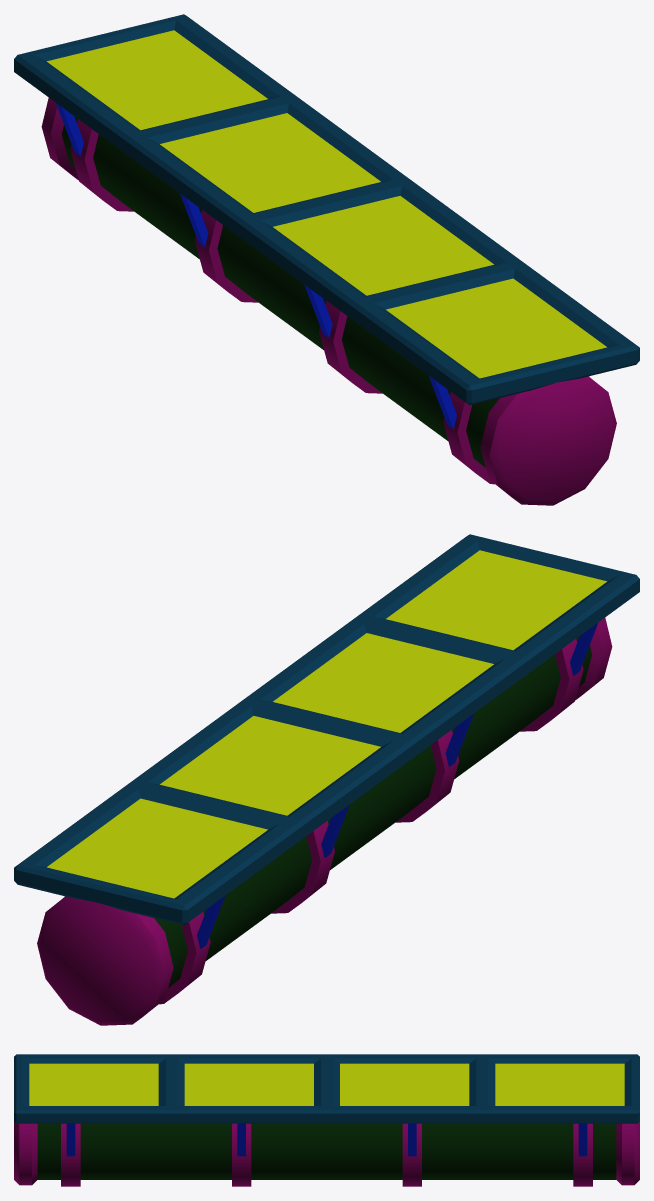
The model's file is OBJ_Rail_Tuyau.fbx.
3 views of the same model, one above another, from view 1: azimuth 30°, elevation 25°; view 2: azimuth 150°, elevation 25°; view 3: azimuth 270°, elevation 25° (orthographic). The views are drawn at different scales.
Parts seen in each view (by area): view 1: OBJ_Rail_Tuyau; view 2: OBJ_Rail_Tuyau; view 3: OBJ_Rail_Tuyau.
Part boxes in pixels (left/top/right/bottom): OBJ_Rail_Tuyau: left=14, top=14, right=639, bottom=505; OBJ_Rail_Tuyau: left=14, top=534, right=639, bottom=1025; OBJ_Rail_Tuyau: left=14, top=1054, right=639, bottom=1186.
Size of the model in its own units: 2.42 by 1.92 by 11.
